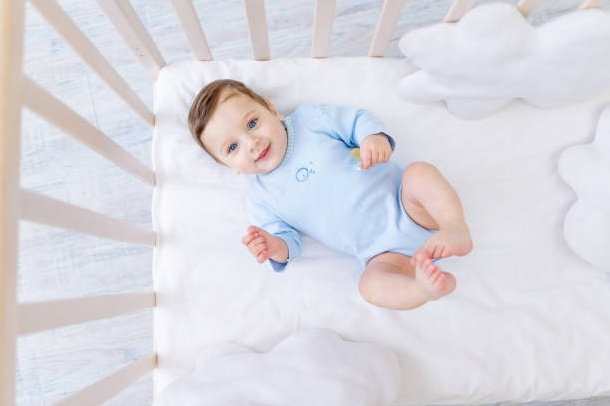baby: (188, 80, 471, 308)
crib: (0, 0, 156, 404)
